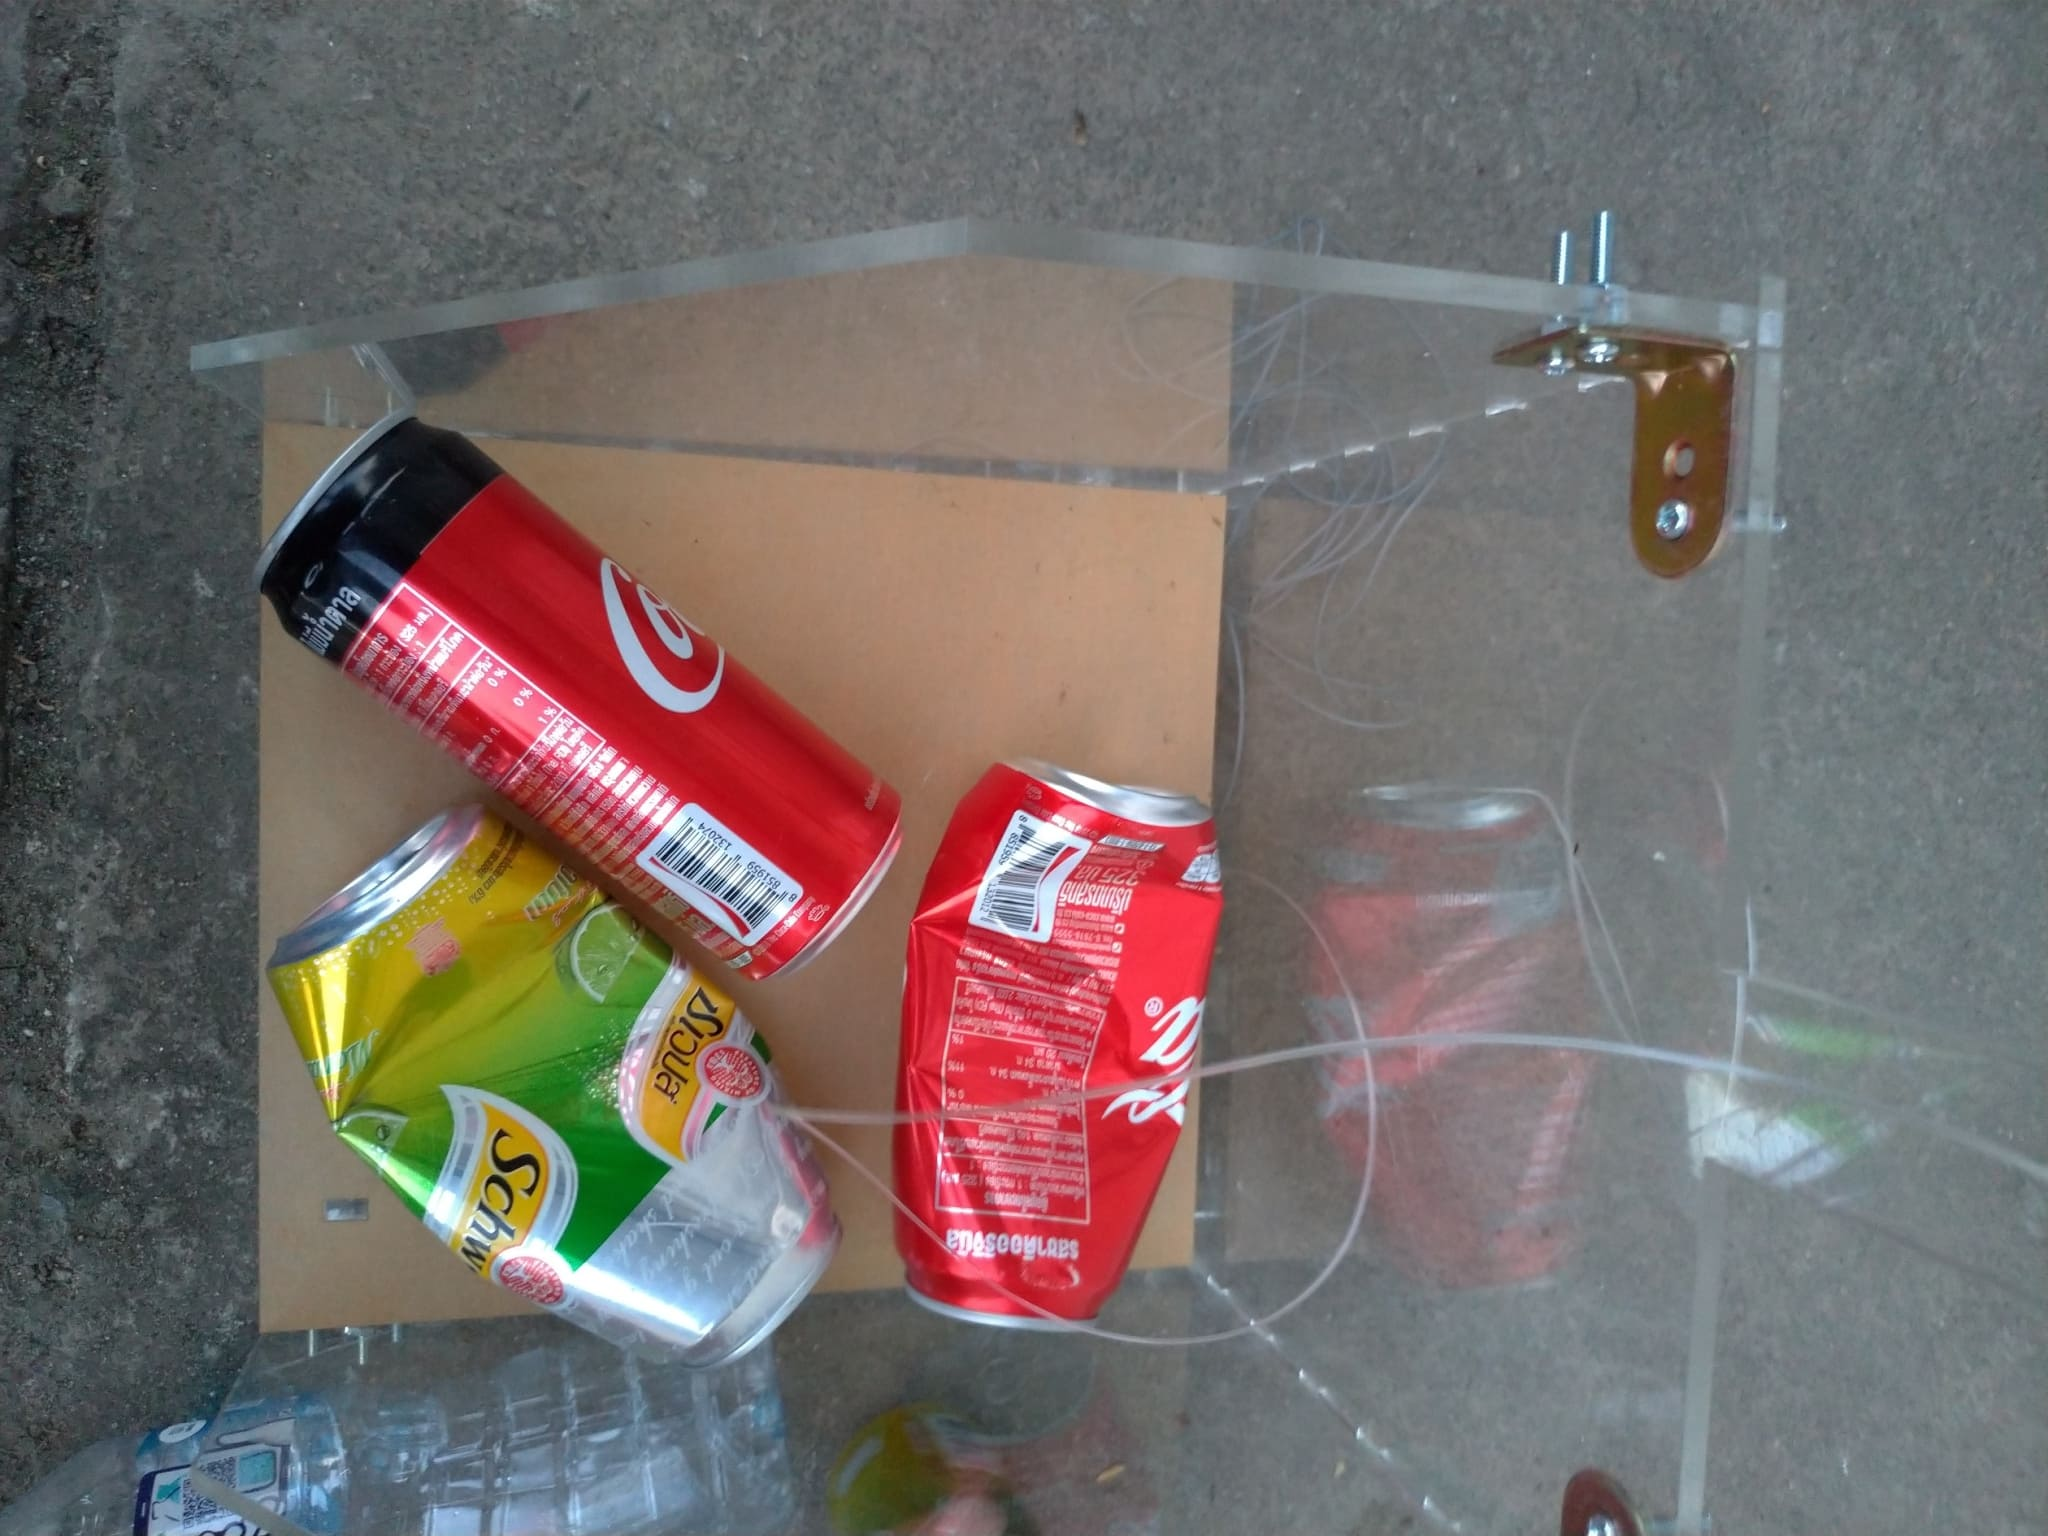AlCan: (253, 416, 901, 986), (269, 803, 847, 1363), (889, 762, 1229, 1333)
